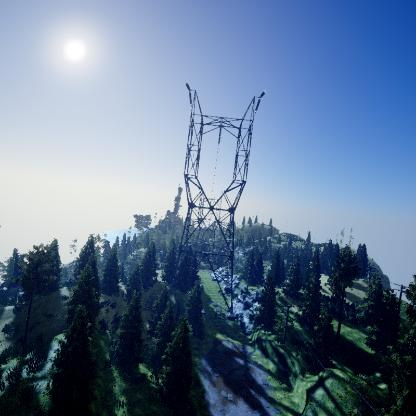tower: (174, 81, 266, 319)
